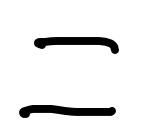eqv: (12, 32, 121, 120)
